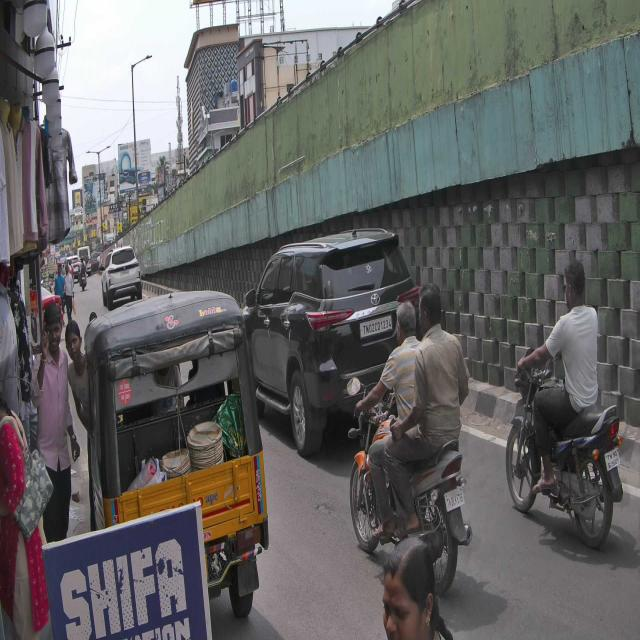double_rider: (349, 281, 473, 592)
single_rider: (506, 261, 623, 552)
